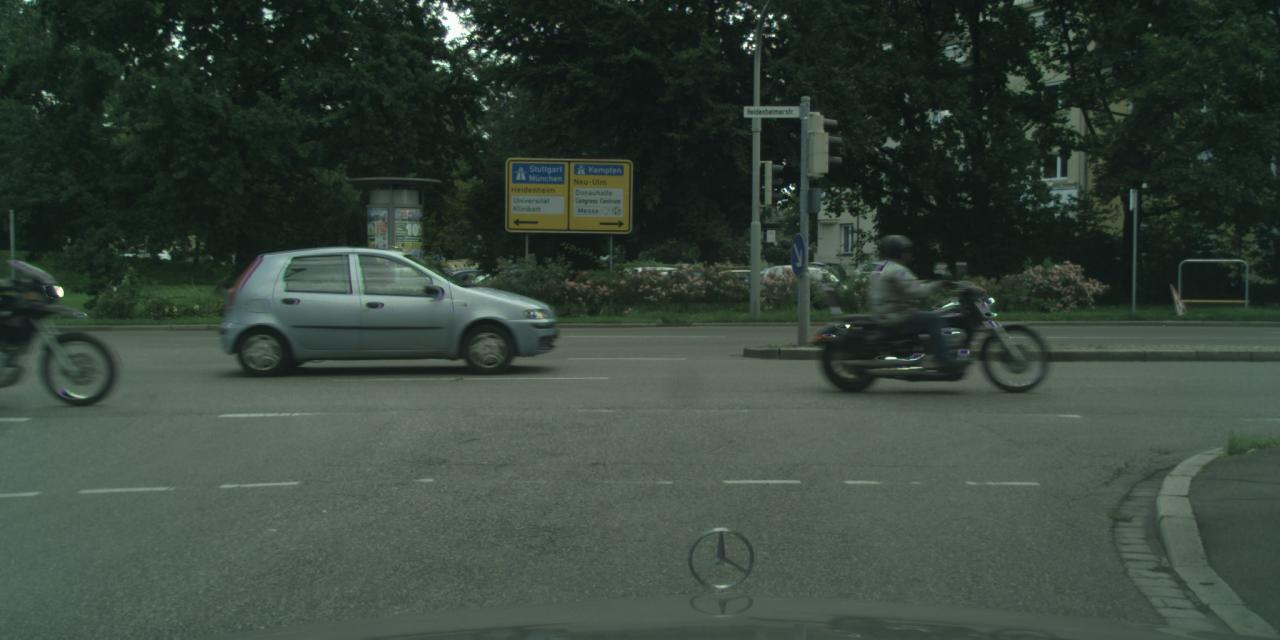ped: (895, 234, 951, 370)
